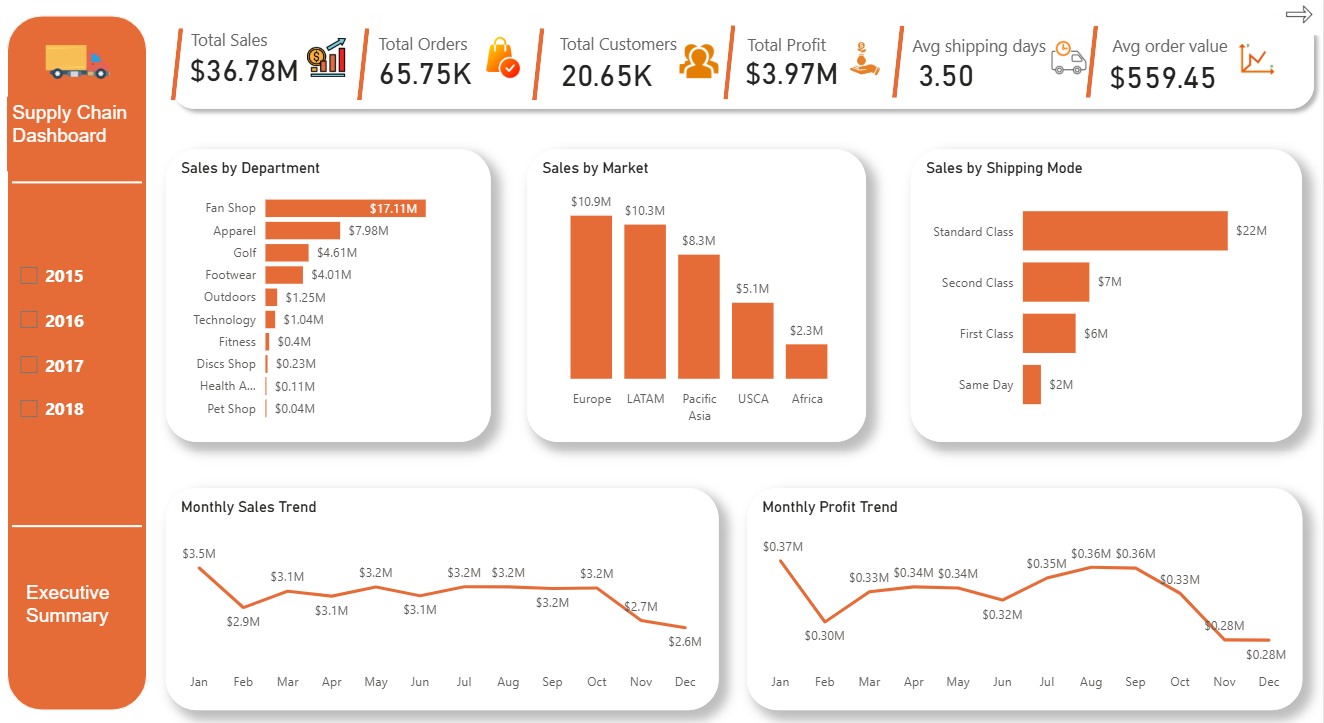

This screenshot's page, from the dashboard's own definition file:
{"tool":"powerbi","page":{"name":"Executive Summary","canvas":[1280,720],"ordinal":0},"visuals":[{"type":"textbox","box":[538.1,22.2,50.9,6.4],"z":0,"group":"g3"},{"type":"textbox","box":[182.3,29,103.8,31.4],"z":0,"group":"g7"},{"type":"textbox","box":[878.5,35.1,154.4,33.8],"z":0,"group":"g6"},{"type":"card","title":"Total Orders","fields":{"Values":["Details.total_orders"]},"box":[356.6,56.7,112.8,38],"z":0,"group":"g2"},{"type":"lineChart","title":"Monthly Sales Trend","fields":{"Y":["Details.total_sales"],"Category":["Details.Month"]},"box":[162.9,477.8,533.2,214.7],"z":0},{"type":"card","title":"Total Sales","fields":{"Values":["Details.total_sales"]},"box":[180.1,45.4,118.2,54.3],"z":1000,"group":"g7"},{"type":"lineChart","title":"Monthly Profit Trend","fields":{"Category":["Details.Month"],"Y":["Details.total_profit"]},"box":[723.9,477.8,535.7,214.7],"z":1000},{"type":"image","box":[294.7,38.2,47.1,47.1],"z":2000,"group":"g7"},{"type":"image","box":[894,43.4,54.3,48.3],"z":2000},{"type":"clusteredBarChart","title":"Sales by Department ","fields":{"Y":["Details.total_sales"],"Category":["Details.Department Name"]},"box":[162.9,150.8,313.7,282.3],"z":3000},{"type":"clusteredBarChart","title":"Sales by Shipping Mode","fields":{"Category":["Details.Shipping Mode"],"Y":["Details.total_sales"]},"box":[881.9,150.8,377.6,282.3],"z":4000},{"type":"shape","box":[159.3,12.1,1120.8,108.6],"z":5000},{"type":"group","id":"g1","title":"Group 1","box":[167.7,25.3,191.8,86.9],"z":6000},{"type":"group","id":"g2","title":"Group 2","box":[356.6,56.7,112.8,38],"z":7000},{"type":"group","id":"g3","title":"Group 4","box":[538.1,22.2,50.9,6.4],"z":8000},{"type":"clusteredColumnChart","title":"Sales by Market","fields":{"Category":["Details.Market"],"Y":["Details.total_sales"]},"box":[511.5,150.8,326.9,282.3],"z":9000},{"type":"textbox","box":[363.1,32.6,98.9,33.8],"z":10000},{"type":"card","title":"Total Customers","fields":{"Values":["Details.total_customers"]},"box":[538.1,56.6,101.3,43.4],"z":10000,"group":"g11"},{"type":"image","box":[462.1,32.6,53.1,59.1],"z":11000},{"type":"image","box":[653.9,39.8,47.1,51.9],"z":11000,"group":"g4"},{"type":"shape","box":[700.9,21.7,11.8,90.5],"z":12000,"group":"g5"},{"type":"group","id":"g4","title":"Group 6","box":[516.4,25.3,184.6,86.9],"z":12000},{"type":"shape","box":[516.4,25.3,12.1,86.9],"z":12000,"group":"g4"},{"type":"group","id":"g5","title":"Group 6","box":[700.9,21.7,115.9,90.5],"z":13000},{"type":"group","id":"g6","title":"Group 5","box":[863.8,22.9,169.1,86.9],"z":13003,"group":"g8"},{"type":"group","id":"g7","title":"Group 5","box":[167.7,25.3,174.1,86.9],"z":13003,"group":"g9"},{"type":"card","fields":{"Values":["Details.total_profit"]},"box":[713,56.7,108.6,38.6],"z":14000},{"type":"shape","box":[863.8,22.9,12.1,86.9],"z":14002,"group":"g6"},{"type":"shape","box":[167.7,25.3,12.1,86.9],"z":14002,"group":"g7"},{"type":"shape","box":[1051,23,12.1,86.9],"z":14006,"group":"g10"},{"type":"shape","box":[347.5,25.3,12.1,86.9],"z":14006,"group":"g1"},{"type":"group","id":"g8","title":"Group 3","box":[863.8,22.9,169.1,86.9],"z":14016,"group":"g10"},{"type":"group","id":"g9","title":"Group 3","box":[167.7,25.3,174.1,86.9],"z":14016,"group":"g1"},{"type":"textbox","box":[538.1,32.5,125.5,36.2],"z":15000,"group":"g11"},{"type":"textbox","box":[719.1,34.1,97.7,32.6],"z":15000,"group":"g5"},{"type":"image","box":[811.9,39.8,51.9,47.1],"z":15000},{"type":"group","id":"g10","title":"Group 1","box":[863.8,22.9,199.3,87],"z":16000},{"type":"card","title":"Average Shipping Days","fields":{"Values":["Details.average shipping days"]},"box":[884.3,61.5,63.9,33.8],"z":17000},{"type":"image","box":[1012.2,39.8,44.6,44.6],"z":18000},{"type":"textbox","box":[1071.3,35,129.1,38.6],"z":19000},{"type":"card","fields":{"Values":["Details.average order value"]},"box":[1062.9,61.5,125.5,37.4],"z":20000},{"type":"image","box":[1188.3,36.2,54.3,55.5],"z":21000},{"type":"shape","box":[9.7,21.7,135.1,670.8],"z":22000},{"type":"slicer","fields":{"Values":["Details.Year"]},"box":[9.7,246.1,135.1,208.7],"z":23000},{"type":"textbox","box":[9.7,100.1,130.3,72.4],"z":24000},{"type":"image","box":[42.2,30.2,71.2,72.4],"z":25000},{"type":"shape","box":[14.5,172.5,125.5,20.5],"z":26000},{"type":"shape","box":[14.5,504.3,125.5,20.5],"z":27000},{"type":"textbox","box":[22.9,563.4,117,96.5],"z":28000},{"type":"image","box":[1234.2,0,45.8,41],"z":28001},{"type":"group","id":"g11","title":"Group 7","box":[538.1,32.5,125.5,67.6],"z":28001,"group":"g4"}]}

Visuals, with their boxes on the page's 1280x720 design canvas (x1, y1, x2, y2). These are canvas units, not pixel positions in the 1324x723 screenshot, which may show the page scaled, cropped or inside an application window:
textbox: [538,22,589,29]
textbox: [182,29,286,60]
textbox: [878,35,1033,69]
"Total Orders" card: [357,57,469,95]
"Monthly Sales Trend" lineChart: [163,478,696,692]
"Total Sales" card: [180,45,298,100]
"Monthly Profit Trend" lineChart: [724,478,1260,692]
image: [295,38,342,85]
image: [894,43,948,92]
"Sales by Department " clusteredBarChart: [163,151,477,433]
"Sales by Shipping Mode" clusteredBarChart: [882,151,1260,433]
shape: [159,12,1280,121]
"Group 1" group: [168,25,360,112]
"Group 2" group: [357,57,469,95]
"Group 4" group: [538,22,589,29]
"Sales by Market" clusteredColumnChart: [512,151,838,433]
textbox: [363,33,462,66]
"Total Customers" card: [538,57,639,100]
image: [462,33,515,92]
image: [654,40,701,92]
shape: [701,22,713,112]
"Group 6" group: [516,25,701,112]
shape: [516,25,528,112]
"Group 6" group: [701,22,817,112]
"Group 5" group: [864,23,1033,110]
"Group 5" group: [168,25,342,112]
card - Details.total_profit: [713,57,822,95]
shape: [864,23,876,110]
shape: [168,25,180,112]
shape: [1051,23,1063,110]
shape: [348,25,360,112]
"Group 3" group: [864,23,1033,110]
"Group 3" group: [168,25,342,112]
textbox: [538,32,664,69]
textbox: [719,34,817,67]
image: [812,40,864,87]
"Group 1" group: [864,23,1063,110]
"Average Shipping Days" card: [884,62,948,95]
image: [1012,40,1057,84]
textbox: [1071,35,1200,74]
card - Details.average order value: [1063,62,1188,99]
image: [1188,36,1243,92]
shape: [10,22,145,692]
slicer - Details.Year: [10,246,145,455]
textbox: [10,100,140,172]
image: [42,30,113,103]
shape: [14,172,140,193]
shape: [14,504,140,525]
textbox: [23,563,140,660]
image: [1234,0,1280,41]
"Group 7" group: [538,32,664,100]
